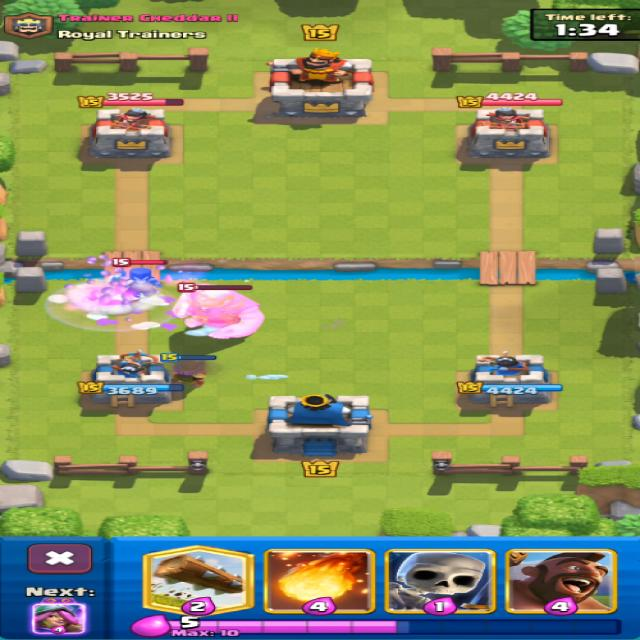Enemy-Giant: (173, 290, 262, 338)
Enemy-KingTower: (269, 47, 372, 116)
Enemy-NightWitch: (105, 257, 165, 299)
Enemy-PrincessTower: (465, 107, 548, 163), (88, 110, 170, 162)
Player-KingTower: (268, 393, 371, 456)
Player-Musketeer: (163, 354, 215, 387)
Player-PrincessTower: (456, 352, 562, 410), (77, 350, 183, 404)
